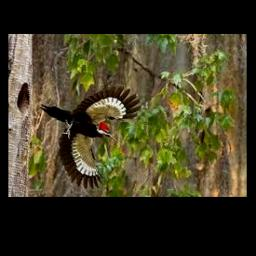Woodpecker: (40, 85, 144, 187)
